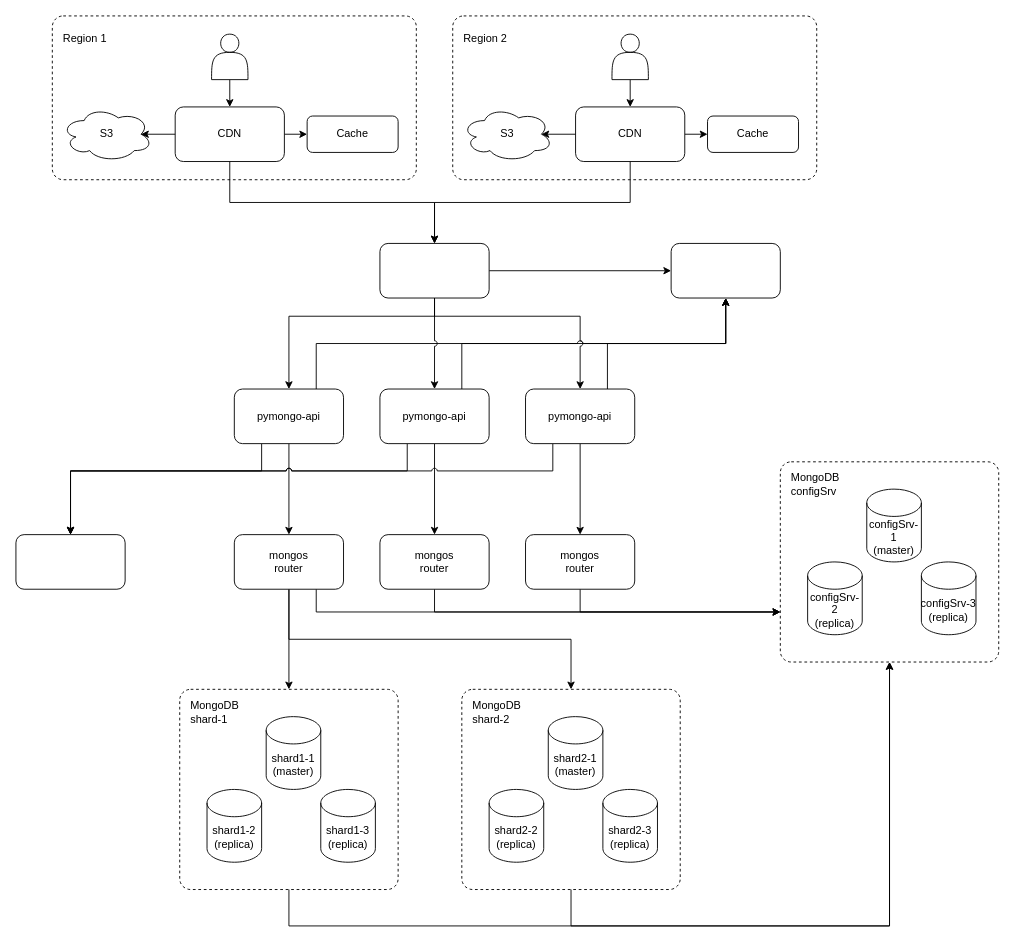
Some shapes in this 1015 by 949 pixel diagram are drawn without their labels. The shapes that lost their labels are listed below. From the top down, each one's centre as x and y in pixels, then its label:
point 434,270: API Gateway
point 725,270: Consul
point 70,561: redis
